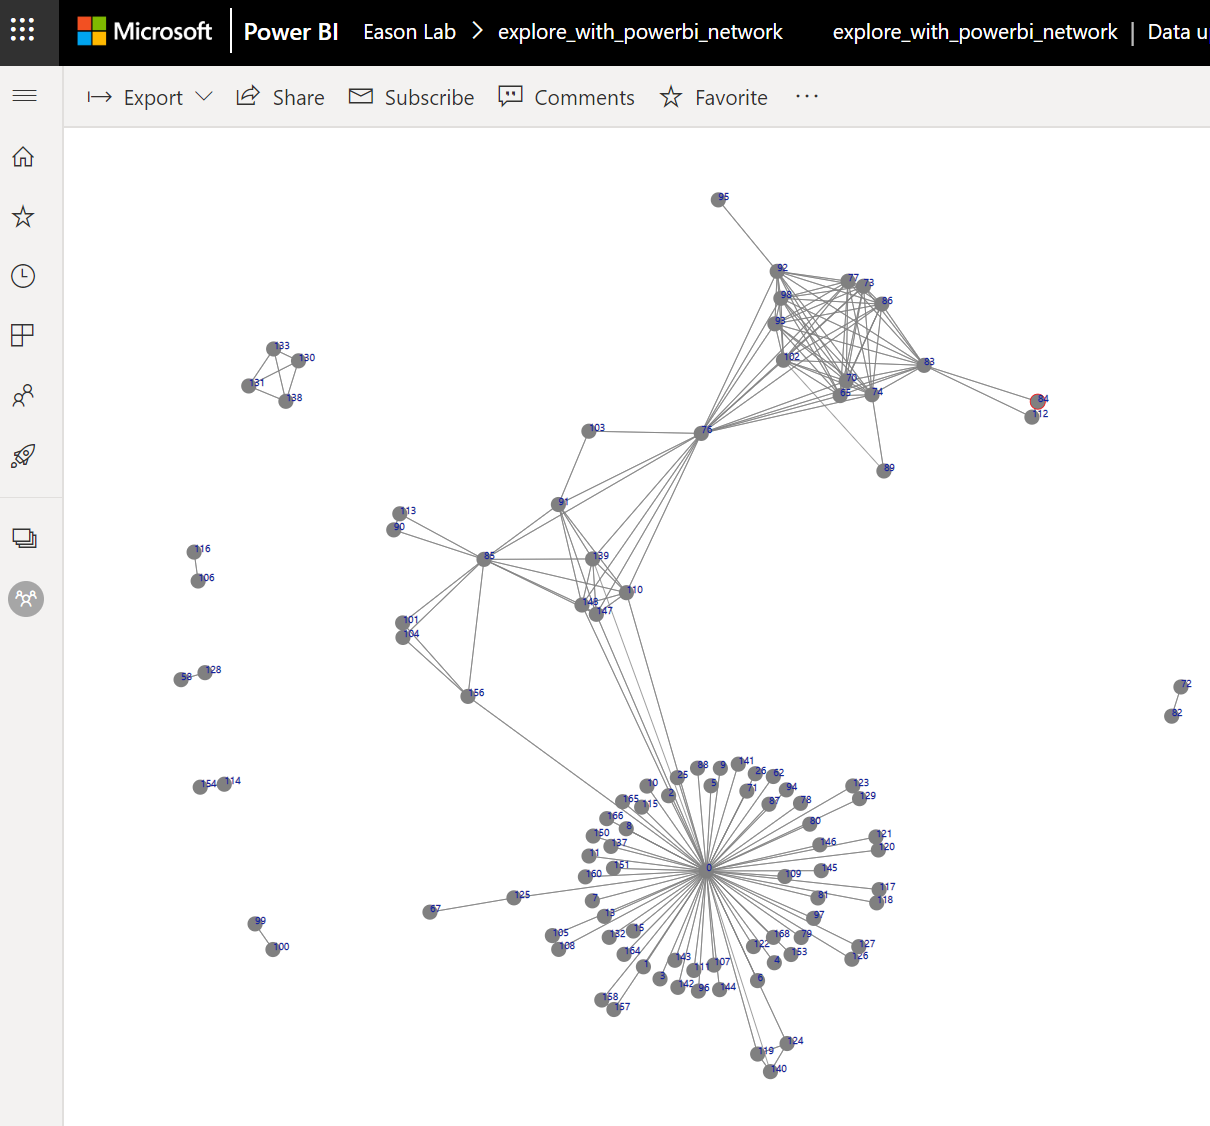

What the dashboard file says about the page in this screenshot:
{"tool":"powerbi","page":{"name":"Page 1","canvas":[1280,720],"ordinal":0},"visuals":[{"type":"NetworkNavigator1550434005853","fields":{"SOURCE_NODE":["hkcase_relationship.Column1"],"TARGET_NODE":["hkcase_relationship.Column2"]},"box":[0,0,1280,720.3],"z":0}]}

Visuals, with their boxes on the page's 1280x720 design canvas (x1, y1, x2, y2). These are canvas units, not pixel positions in the 1210x1126 screenshot, which may show the page scaled, cropped or inside an application window:
NetworkNavigator1550434005853 - hkcase_relationship.Column1 x hkcase_relationship.Column2: 0,0,1280,720
